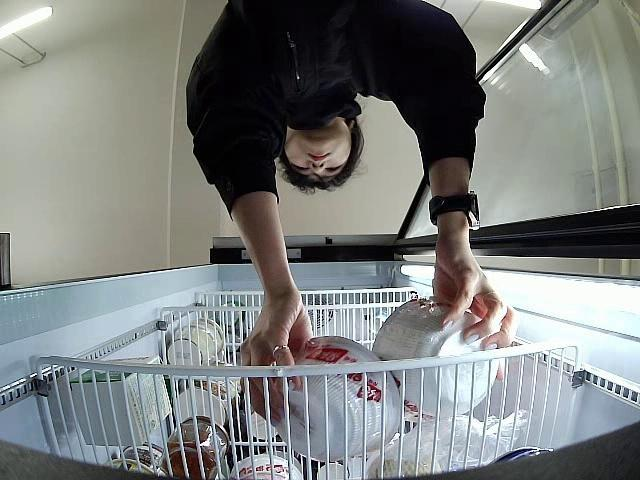09_yukGaeJang: (274, 336, 400, 461), (372, 298, 501, 420)
